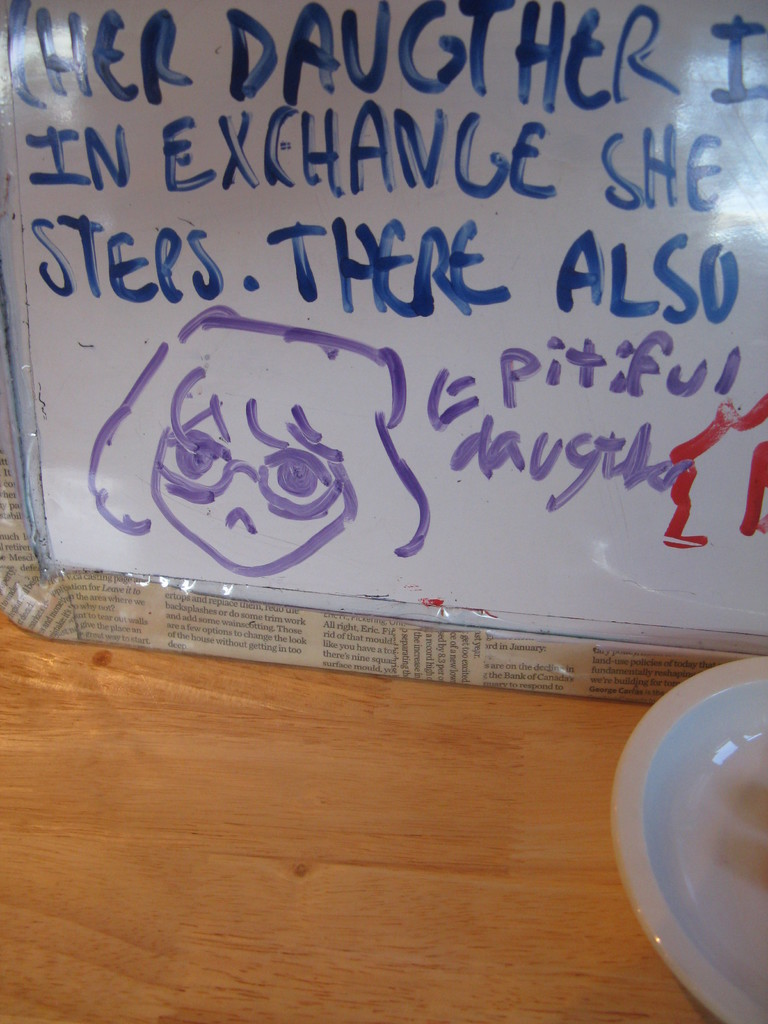plate: (631, 652, 767, 996)
